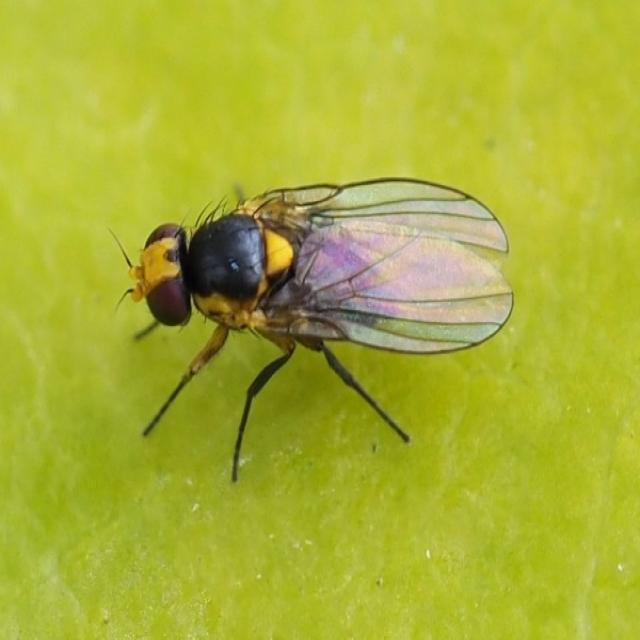Serpentine leafminer: (102, 173, 523, 490)
